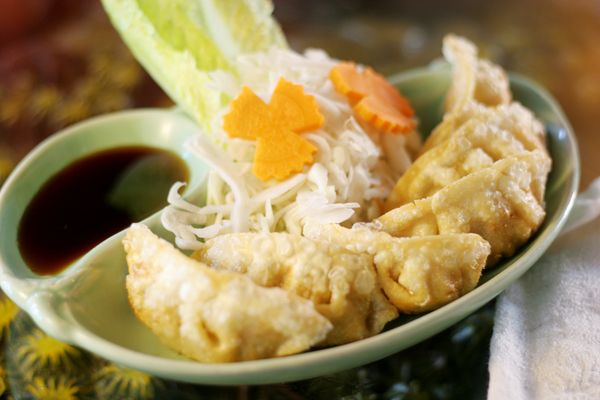sushi: (14, 16, 587, 386), (0, 101, 548, 389)
